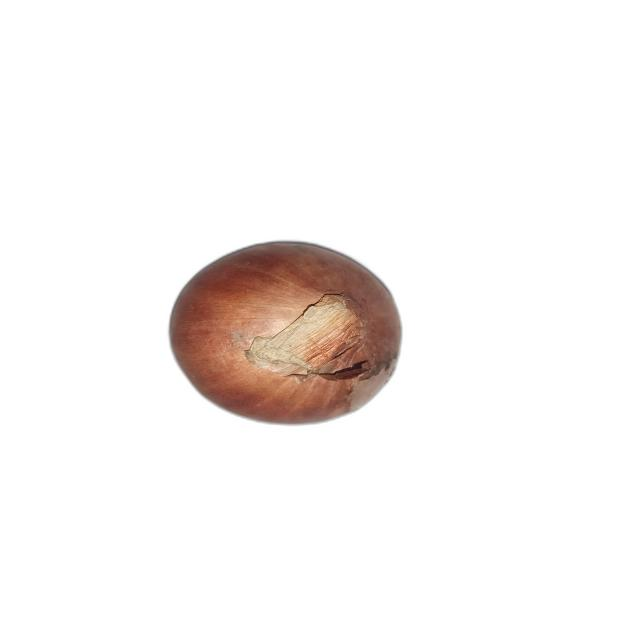onion: (164, 239, 406, 426)
